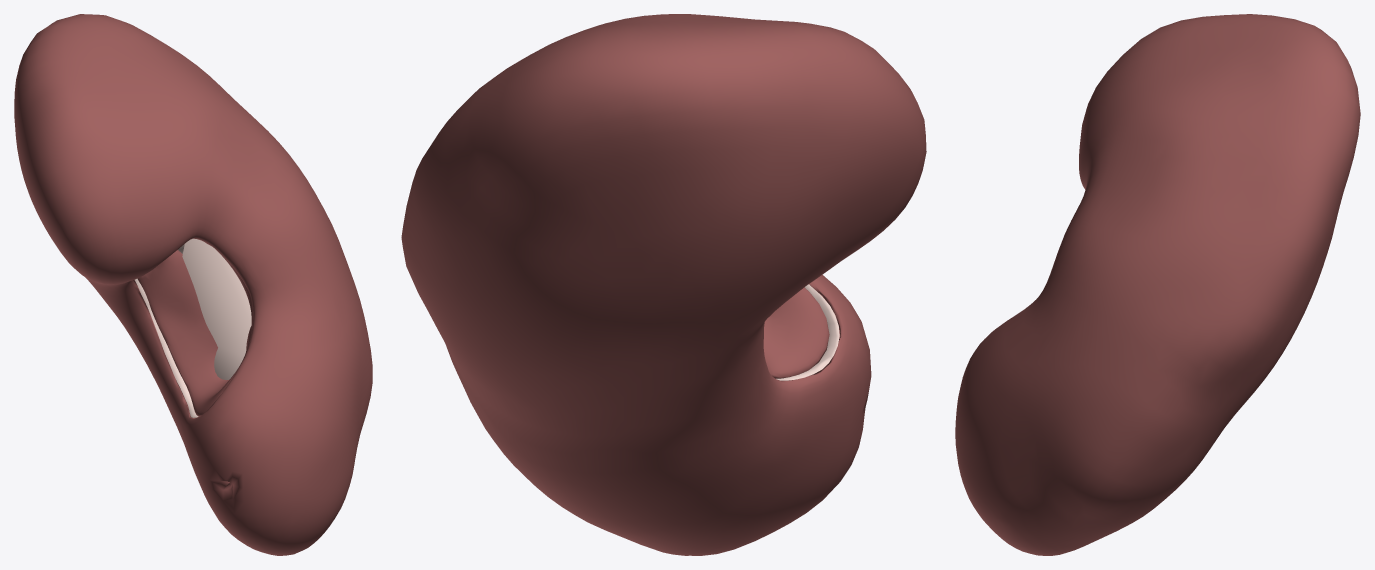
File: vh_m_kidney_l-80.glb
3 views of the same model, side by side, from view 1: azimuth 30°, elevation 25°; view 2: azimuth 150°, elevation 25°; view 3: azimuth 270°, elevation 25° (orthographic). The views are drawn at different scales.
Visible parts, largest first — view 1: VH_M_kidney_capsule_L, VH_M_hilum_of_kidney_L, VH_M_renal_column_L, VH_M_outer_cortex_of_kidney_L; view 2: VH_M_kidney_capsule_L, VH_M_hilum_of_kidney_L, VH_M_outer_cortex_of_kidney_L; view 3: VH_M_kidney_capsule_L.
Part boxes in pixels (<box>): VH_M_kidney_capsule_L: <box>14,14,372,555</box>; VH_M_hilum_of_kidney_L: <box>137,238,253,416</box>; VH_M_renal_column_L: <box>178,238,251,379</box>; VH_M_outer_cortex_of_kidney_L: <box>135,278,198,417</box>; VH_M_kidney_capsule_L: <box>401,14,926,555</box>; VH_M_hilum_of_kidney_L: <box>763,287,829,378</box>; VH_M_outer_cortex_of_kidney_L: <box>776,284,839,380</box>; VH_M_kidney_capsule_L: <box>955,14,1360,555</box>.
Size of the model in its own units: 0.0757 by 0.1065 by 0.0824.
